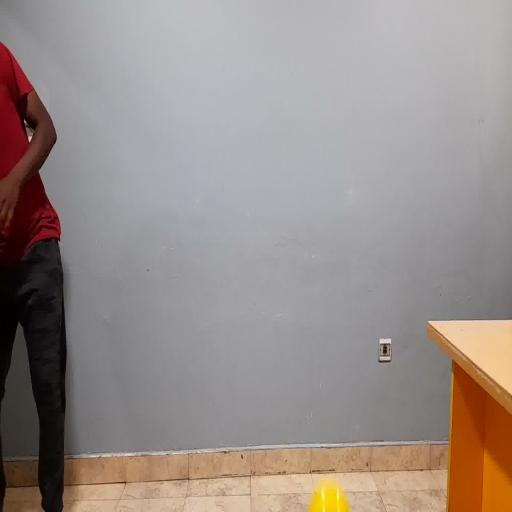plastic-ball: (305, 476, 351, 512)
